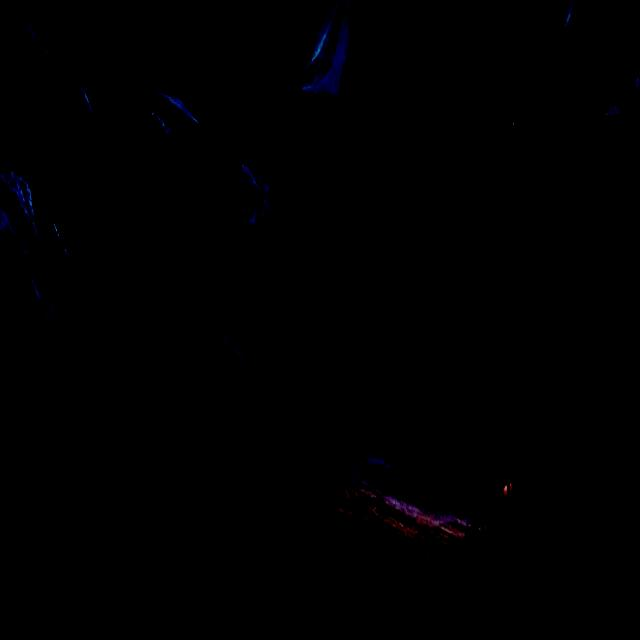Dog: (419, 272, 574, 617)
